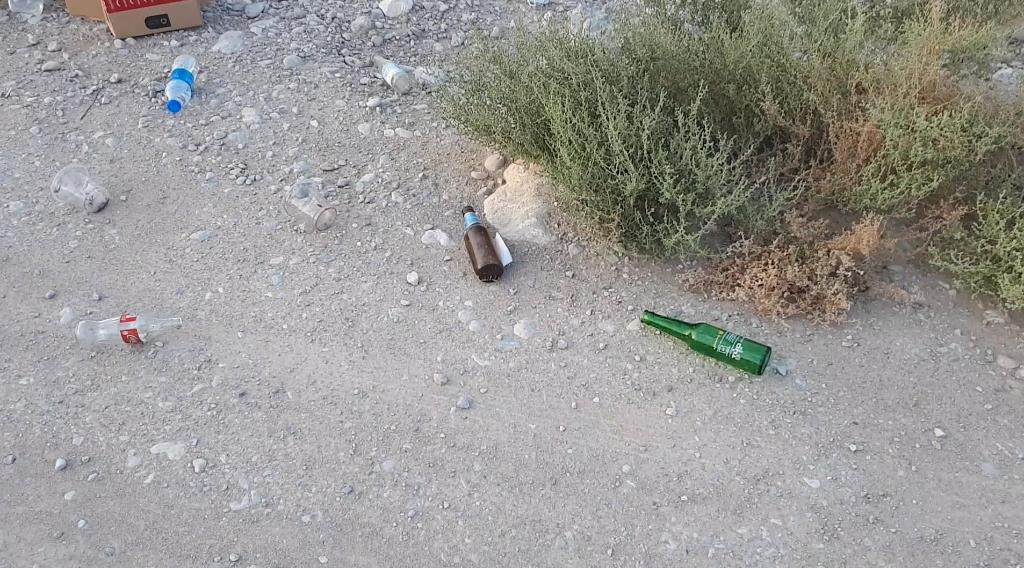garbage: (632, 302, 800, 392), (640, 310, 771, 376), (449, 194, 514, 293), (70, 313, 197, 358), (359, 51, 430, 105), (74, 315, 183, 349), (163, 42, 211, 114), (461, 206, 503, 283), (164, 54, 199, 113), (373, 55, 410, 93)
